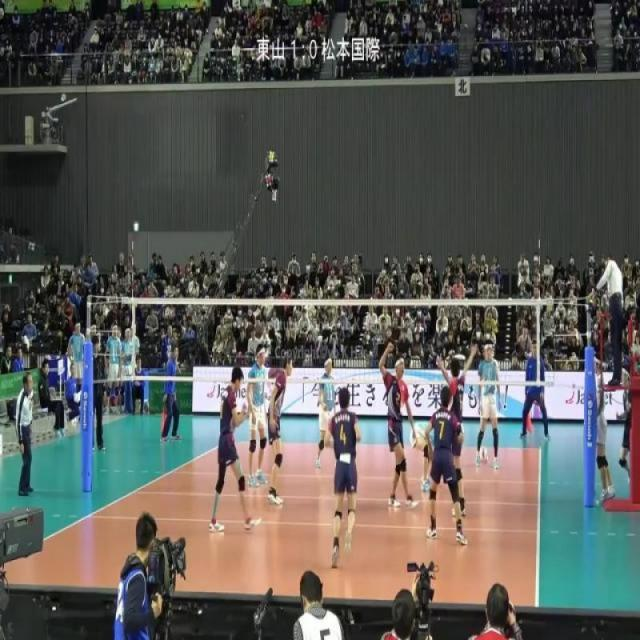volleyball: (478, 446, 489, 465)
